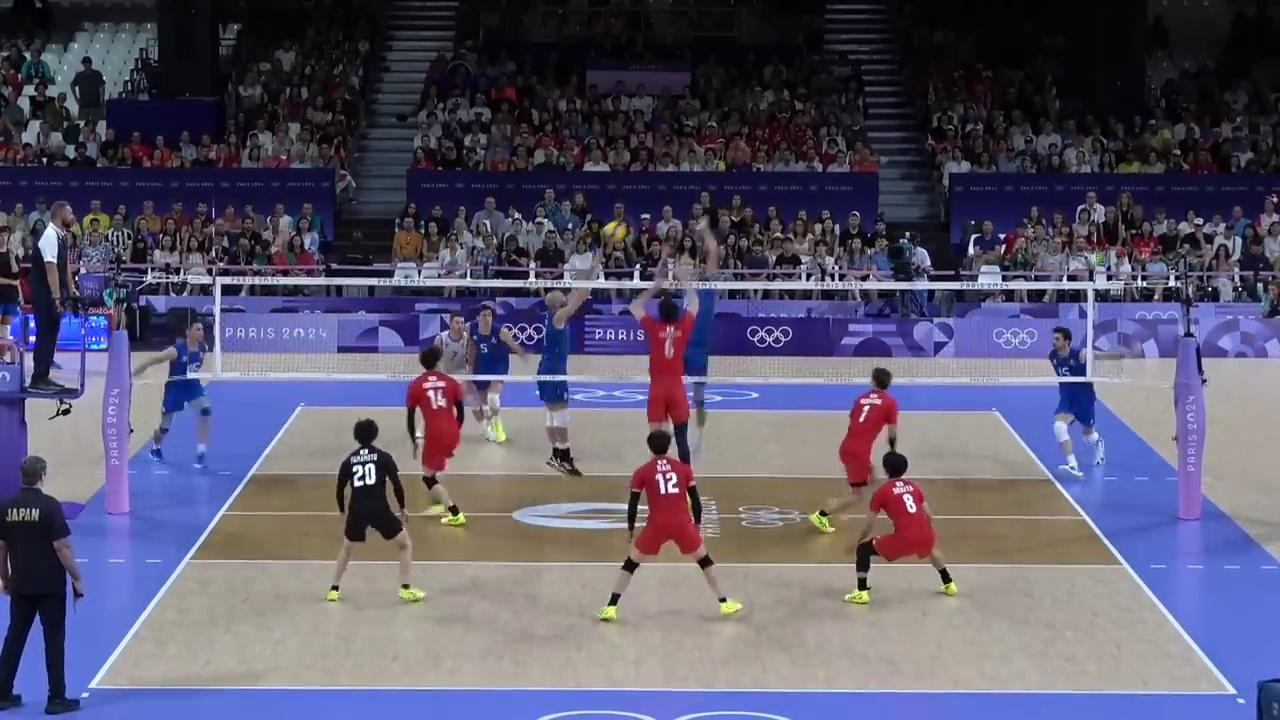ball: (603, 221, 626, 243)
